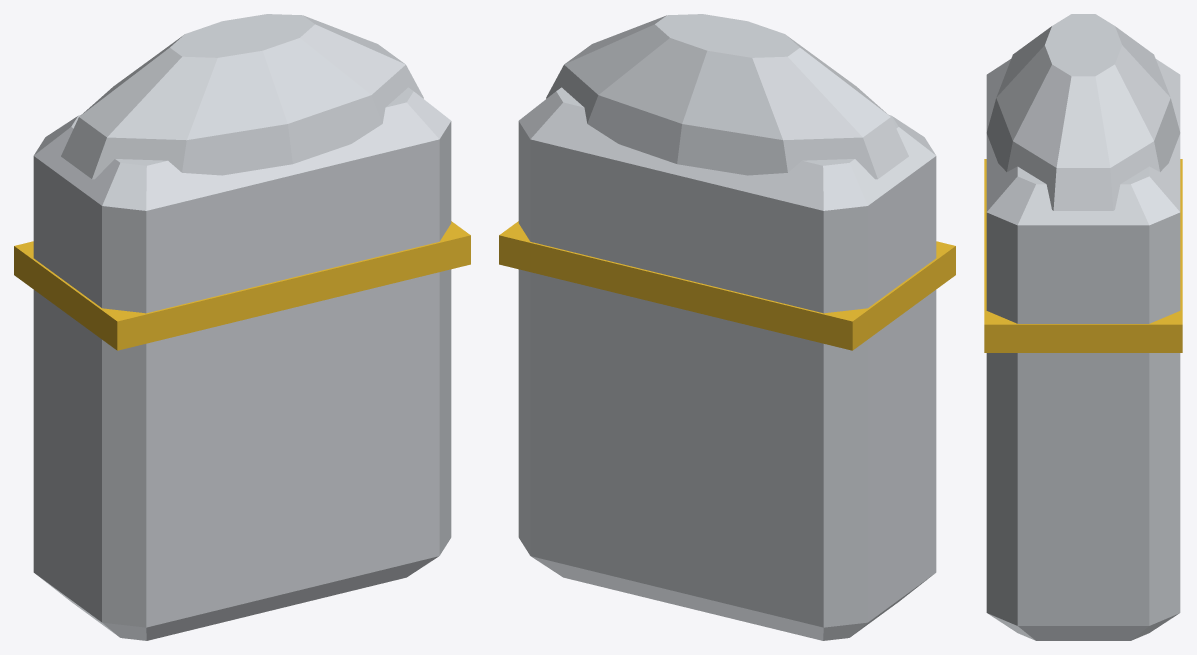
The model's file is tombstone.glb.
The picture shows the model from 3 angles, left to right: view 1: azimuth 30°, elevation 25°; view 2: azimuth 150°, elevation 25°; view 3: azimuth 270°, elevation 25°; orthographic projection. The views are drawn at different scales.
Visible parts, largest first — view 1: tombstone; view 2: tombstone; view 3: tombstone.
Boxes of the visible parts, box(x1,y1,x2,y2) form: tombstone: box(14, 14, 470, 640); tombstone: box(499, 14, 955, 640); tombstone: box(984, 14, 1182, 640).
Size of the model in its own units: 1.01 by 1.5 by 0.512.
